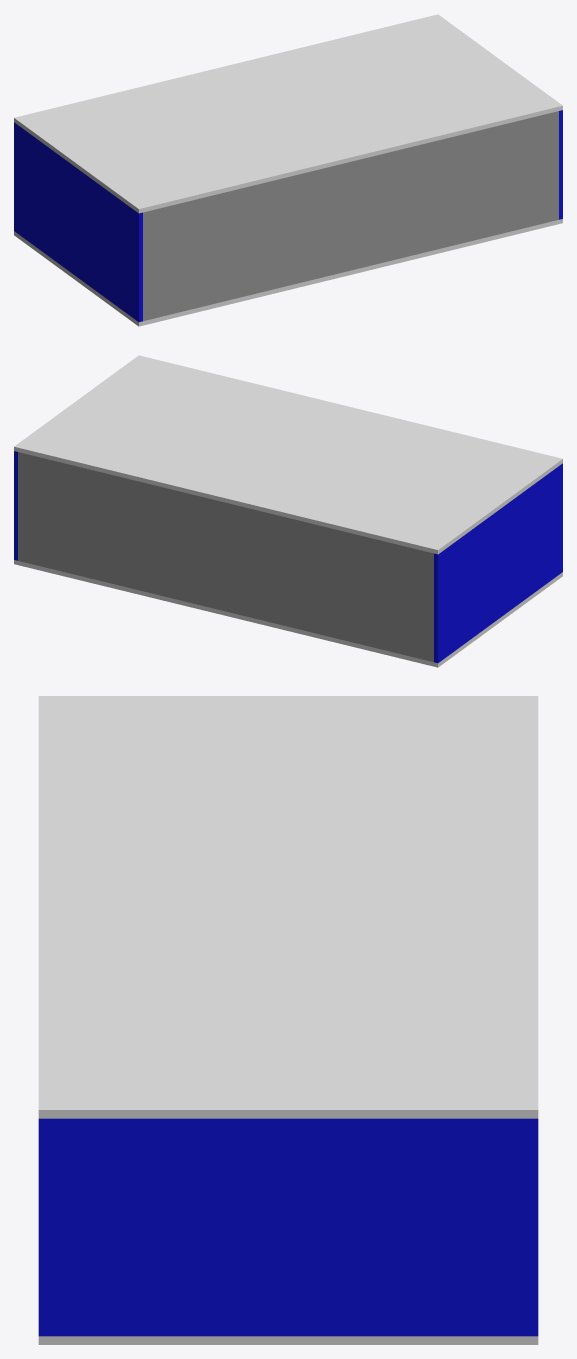
Rendered from classroom.gltf.
3 views of the same model, one above another, from view 1: azimuth 30°, elevation 25°; view 2: azimuth 150°, elevation 25°; view 3: azimuth 270°, elevation 25° (orthographic). The views are drawn at different scales.
Parts seen in each view (by area): view 1: Teto, Parede4, Parede1, Piso, Parede2; view 2: Teto, Parede3, Parede1, Piso, Parede2; view 3: Teto, Parede2, Piso.
Part boxes in pixels (x1,y1,x2,y2): Teto: (14,14,562,213); Parede4: (143,111,558,321); Parede1: (14,122,142,322); Piso: (14,219,562,326); Parede2: (559,110,562,219); Teto: (14,355,562,554); Parede3: (18,452,433,662); Parede1: (434,463,562,663); Piso: (14,560,562,667); Parede2: (14,451,17,560); Teto: (38,696,538,1118); Parede2: (38,1118,538,1336); Piso: (38,1336,538,1344).
Size of the model in its own units: 20.4 by 5.4 by 10.4.
